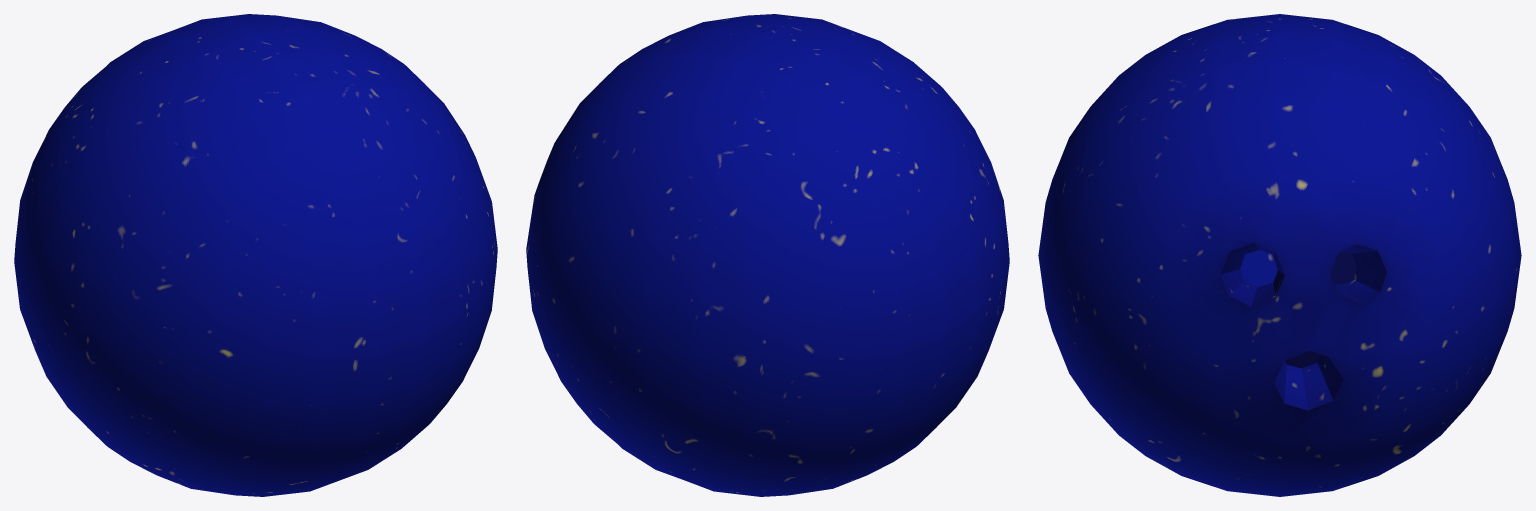
File: Blue ball.fbx
3 views of the same model, side by side, from view 1: azimuth 30°, elevation 25°; view 2: azimuth 150°, elevation 25°; view 3: azimuth 270°, elevation 25° (orthographic).
Visible parts, largest first — view 1: Low poly watermelon ball.001; view 2: Low poly watermelon ball.001; view 3: Low poly watermelon ball.001.
Boxes of the visible parts, box(x1,y1,x2,y2) form: Low poly watermelon ball.001: box(14, 14, 497, 496); Low poly watermelon ball.001: box(526, 14, 1009, 496); Low poly watermelon ball.001: box(1038, 14, 1521, 496).
Size of the model in its own units: 64.35 by 64.5 by 64.5.
1 material, 1 textured.
